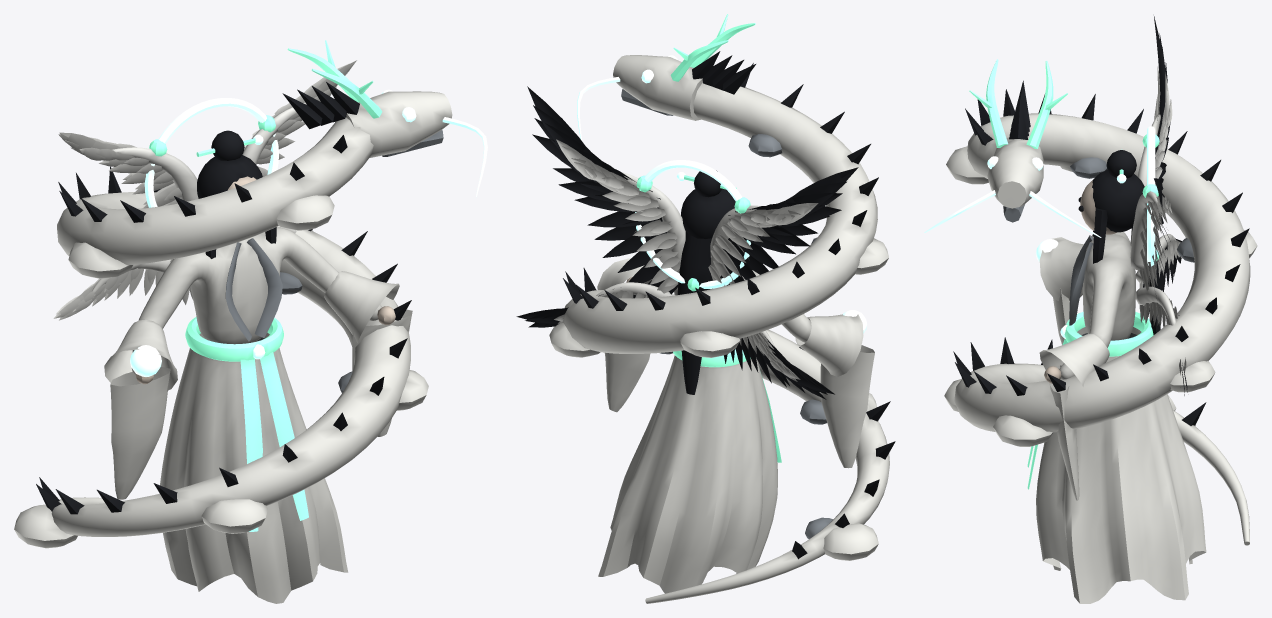
Rendered from ink_dragon.glb.
3 views of the same model, side by side, from view 1: azimuth 30°, elevation 25°; view 2: azimuth 150°, elevation 25°; view 3: azimuth 270°, elevation 25° (orthographic). The views are drawn at different scales.
Visible parts, largest first — view 1: body, wing_L_a, wing_L_b, spin_z_halo, wing_R_a; view 2: body, wing_R_a, wing_L_a, wing_L_b, spin_z_halo, wing_R_b; view 3: body, wing_R_a, wing_L_a, wing_R_b, spin_z_halo, wing_L_b.
Part boxes in pixels (x1=…): body: x1=14, y1=40, x2=487, y2=603; wing_L_a: x1=58, y1=132, x2=198, y2=261; wing_L_b: x1=53, y1=259, x2=192, y2=320; spin_z_halo: x1=144, y1=98, x2=278, y2=207; wing_R_a: x1=242, y1=60, x2=356, y2=176; body: x1=549, y1=14, x2=895, y2=603; wing_R_a: x1=527, y1=86, x2=685, y2=294; wing_L_a: x1=708, y1=167, x2=858, y2=289; wing_L_b: x1=724, y1=330, x2=834, y2=399; spin_z_halo: x1=635, y1=160, x2=750, y2=291; wing_R_b: x1=516, y1=282, x2=674, y2=327; body: x1=924, y1=59, x2=1257, y2=603; wing_R_a: x1=1130, y1=178, x2=1172, y2=298; wing_L_a: x1=1130, y1=16, x2=1172, y2=245; wing_R_b: x1=1135, y1=286, x2=1187, y2=395; spin_z_halo: x1=1142, y1=126, x2=1159, y2=266; wing_L_b: x1=1135, y1=234, x2=1182, y2=316.
Bounding box in the file's own units: 1.63 × 2.29 × 1.36.
